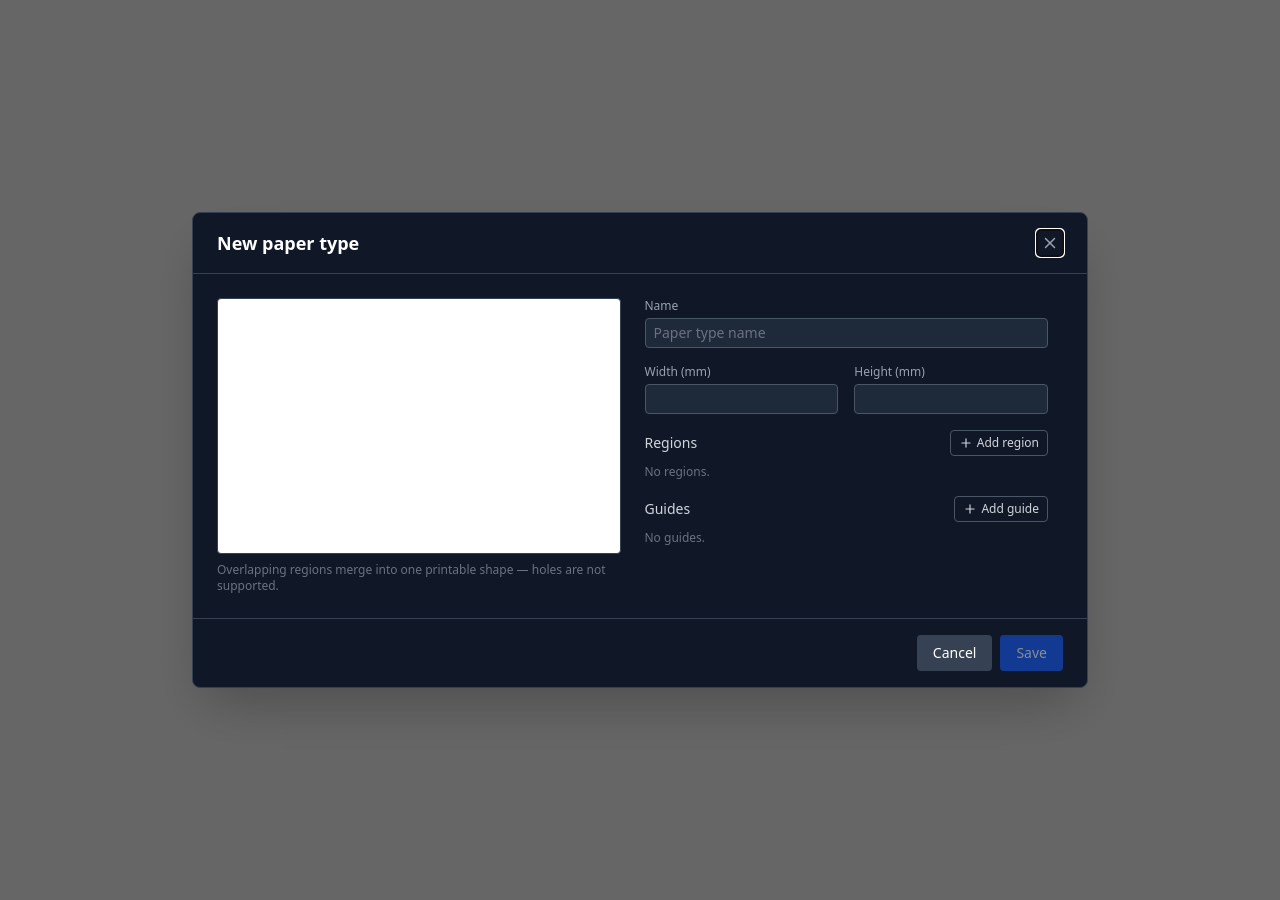
Test: PaperTypeDialog › keeps the dialog open and shows the error when the write fails
Type "My paper" into the field labelled "Name" at (846, 333), box [644,318,1048,348]
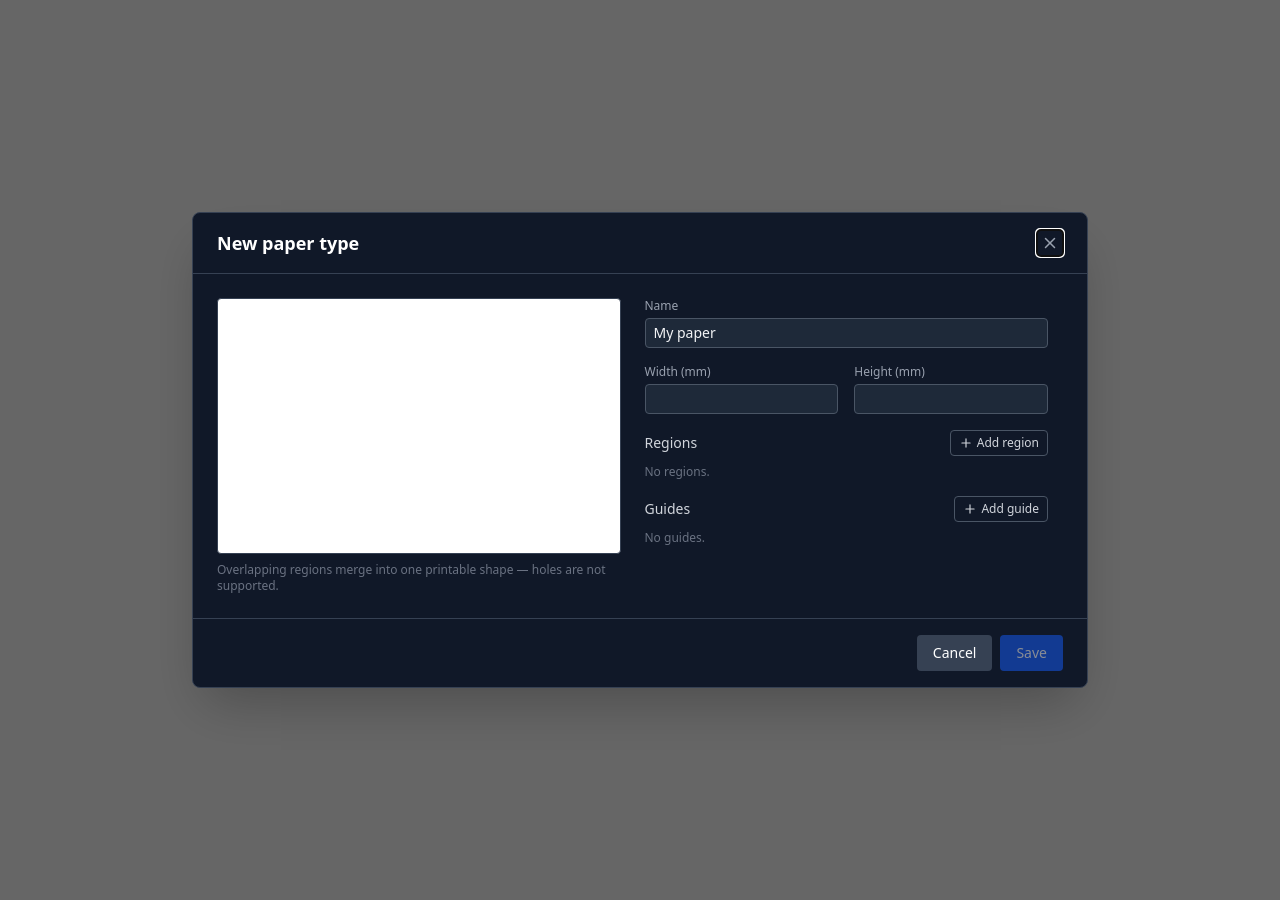
Type "25" into the number field labelled "Width (mm)" at (741, 399), box [644,384,838,414]
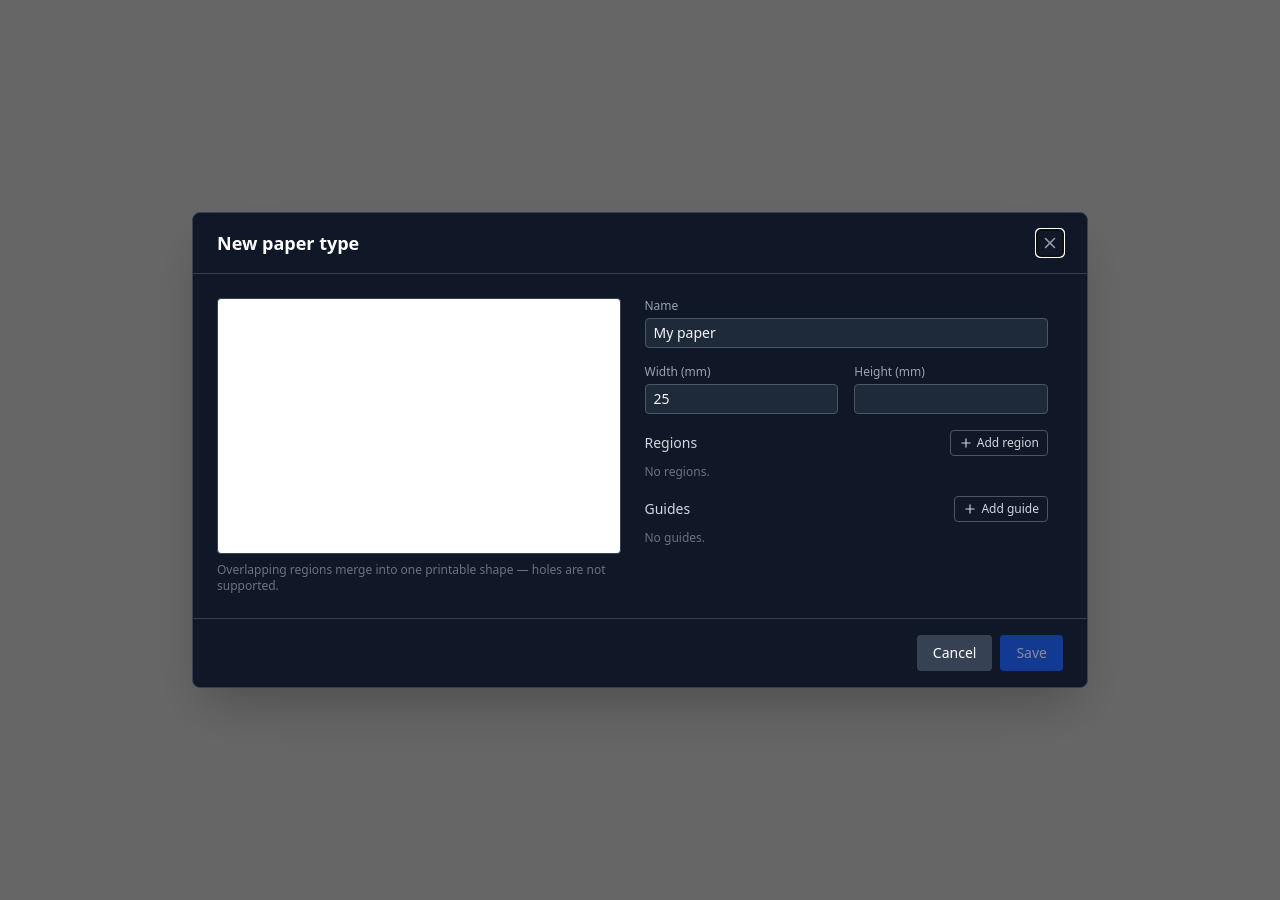
Type "78" into the number field labelled "Height (mm)" at (951, 399), box [854,384,1048,414]
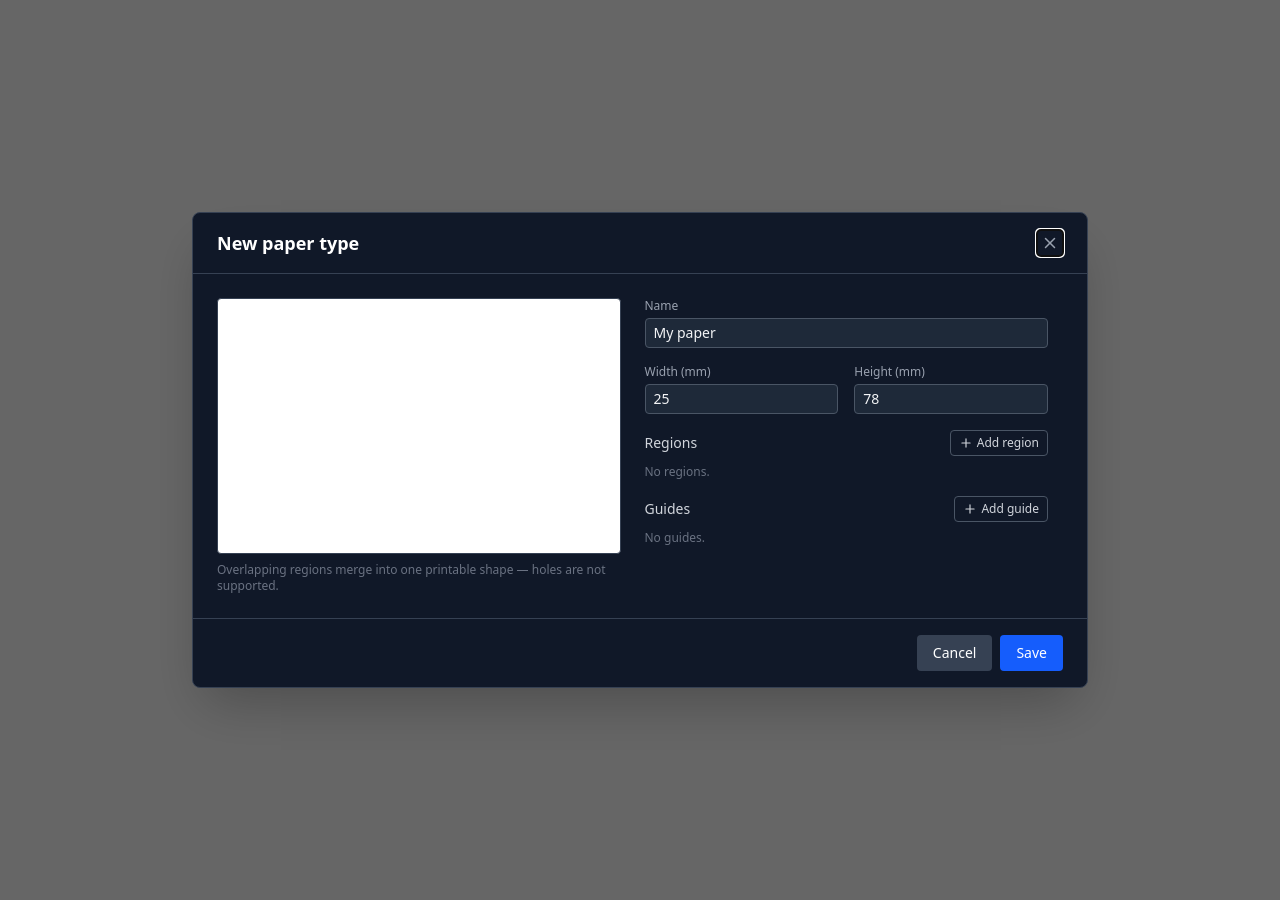
Click the button "Save" at (1032, 653), box [1000,635,1063,671]
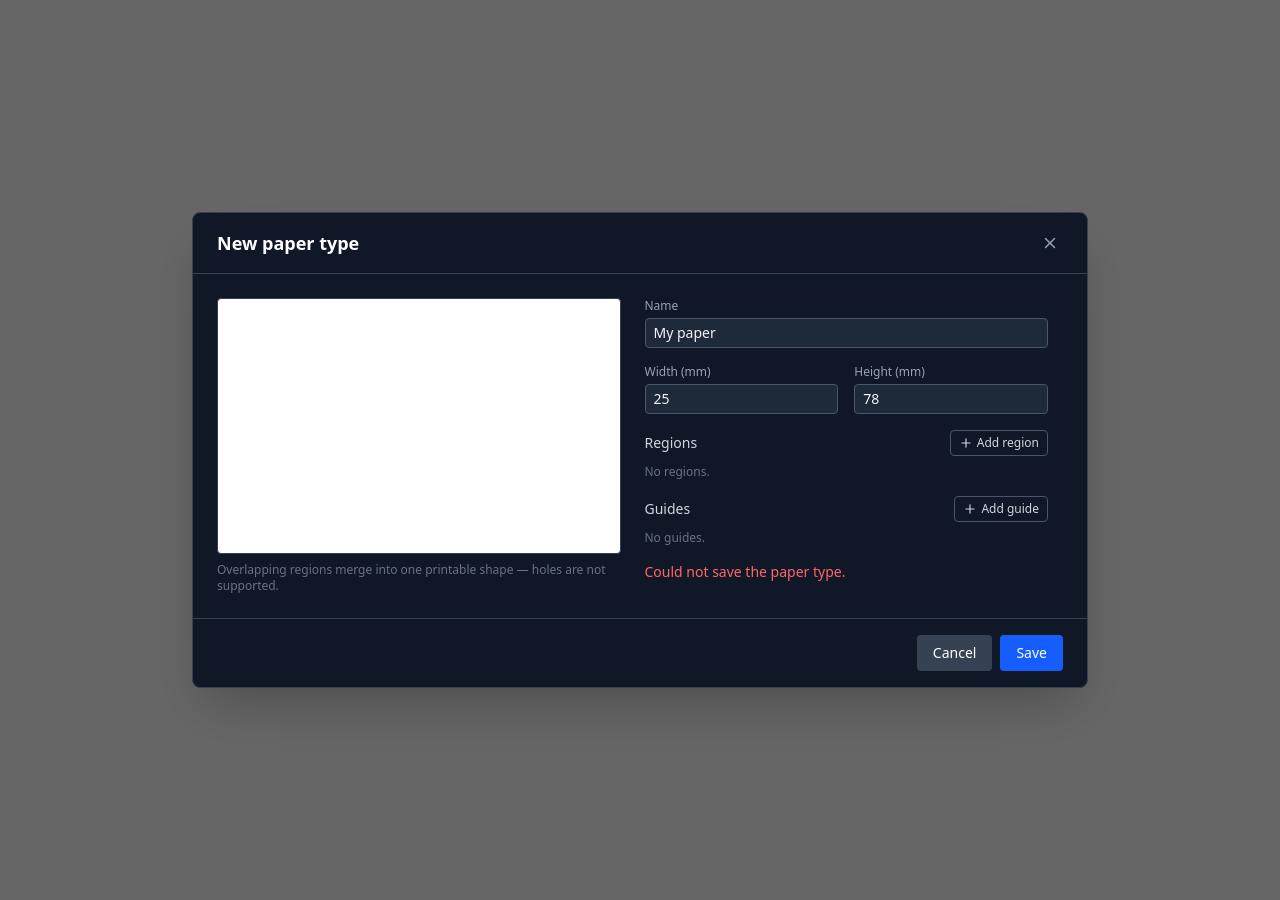
Check: the text "Could not save the paper type." is shown, box [644,562,846,581]
